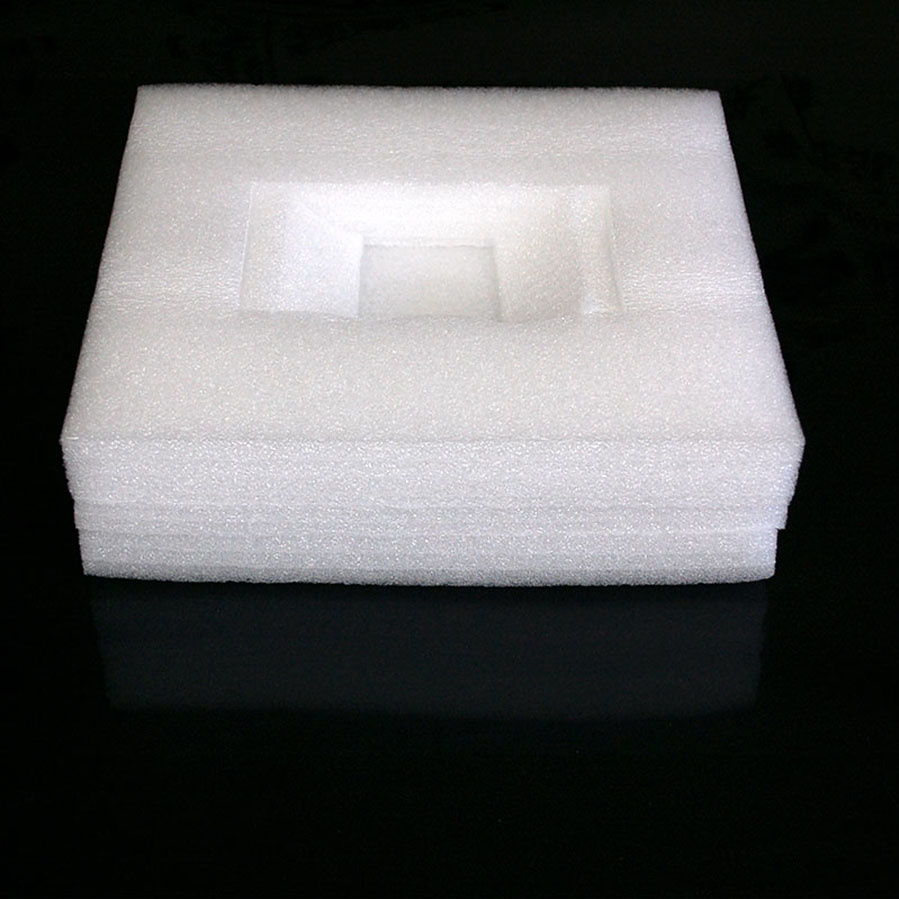good-parcel: (62, 86, 802, 586)
